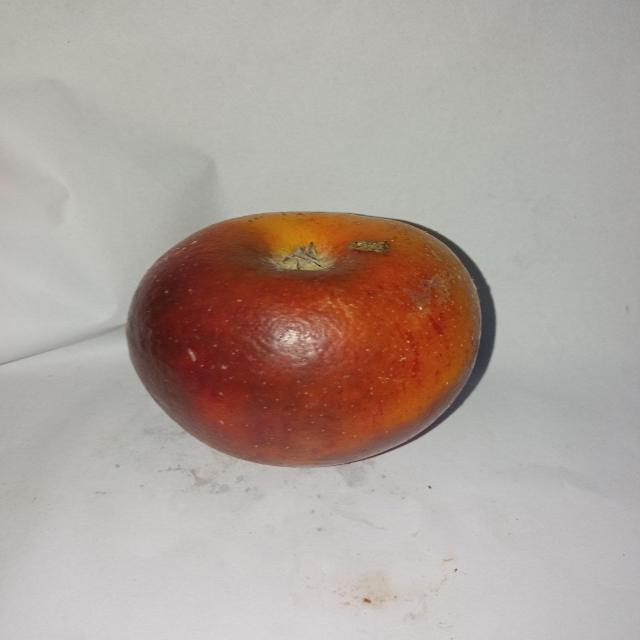rotten_apple: (123, 212, 482, 468)
